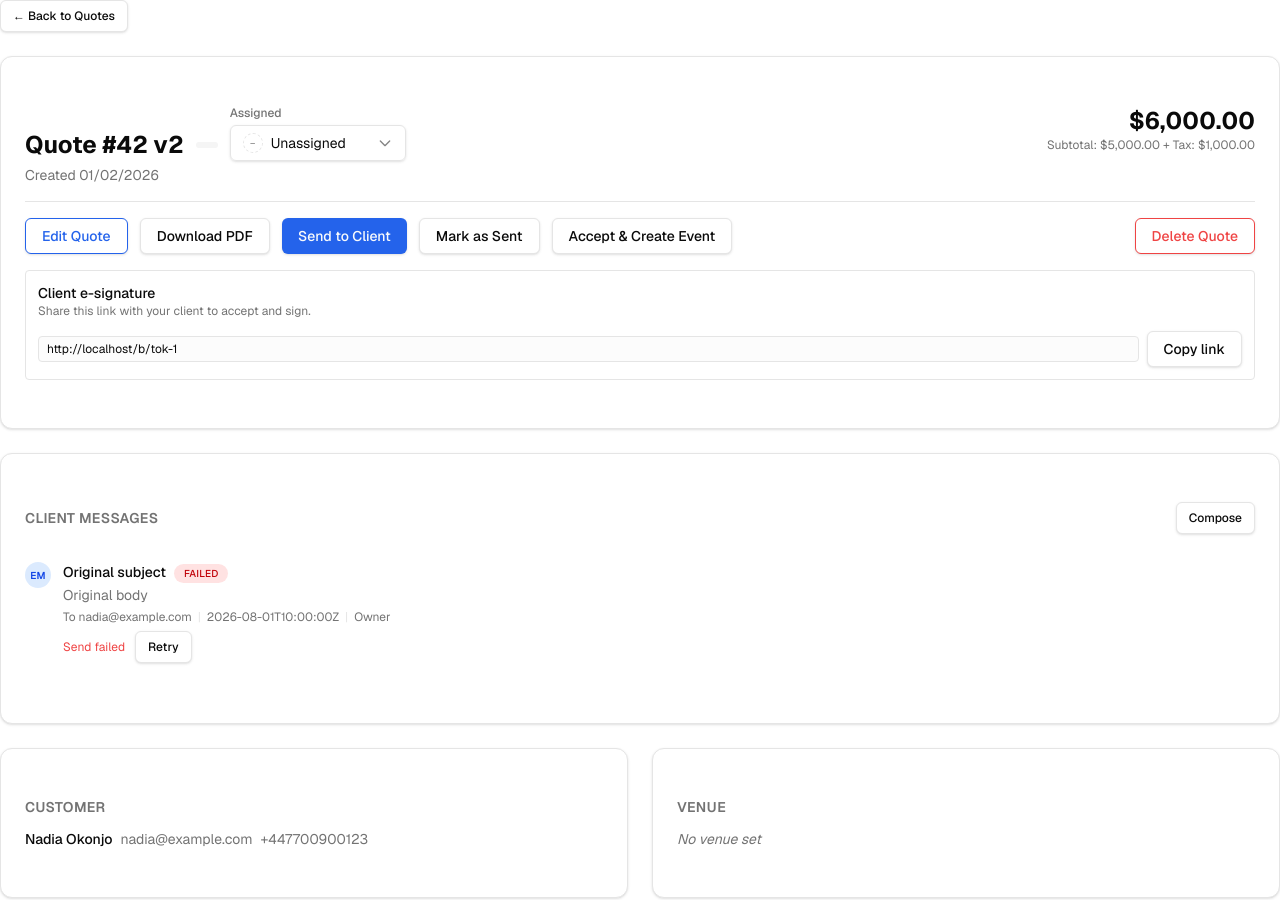
Scenario: Quote page — the message ledger › reopens a failed message with its own wording rather than redrafting
Click the button "Retry" at (163, 647), box x1=135 y1=631 x2=192 y2=663
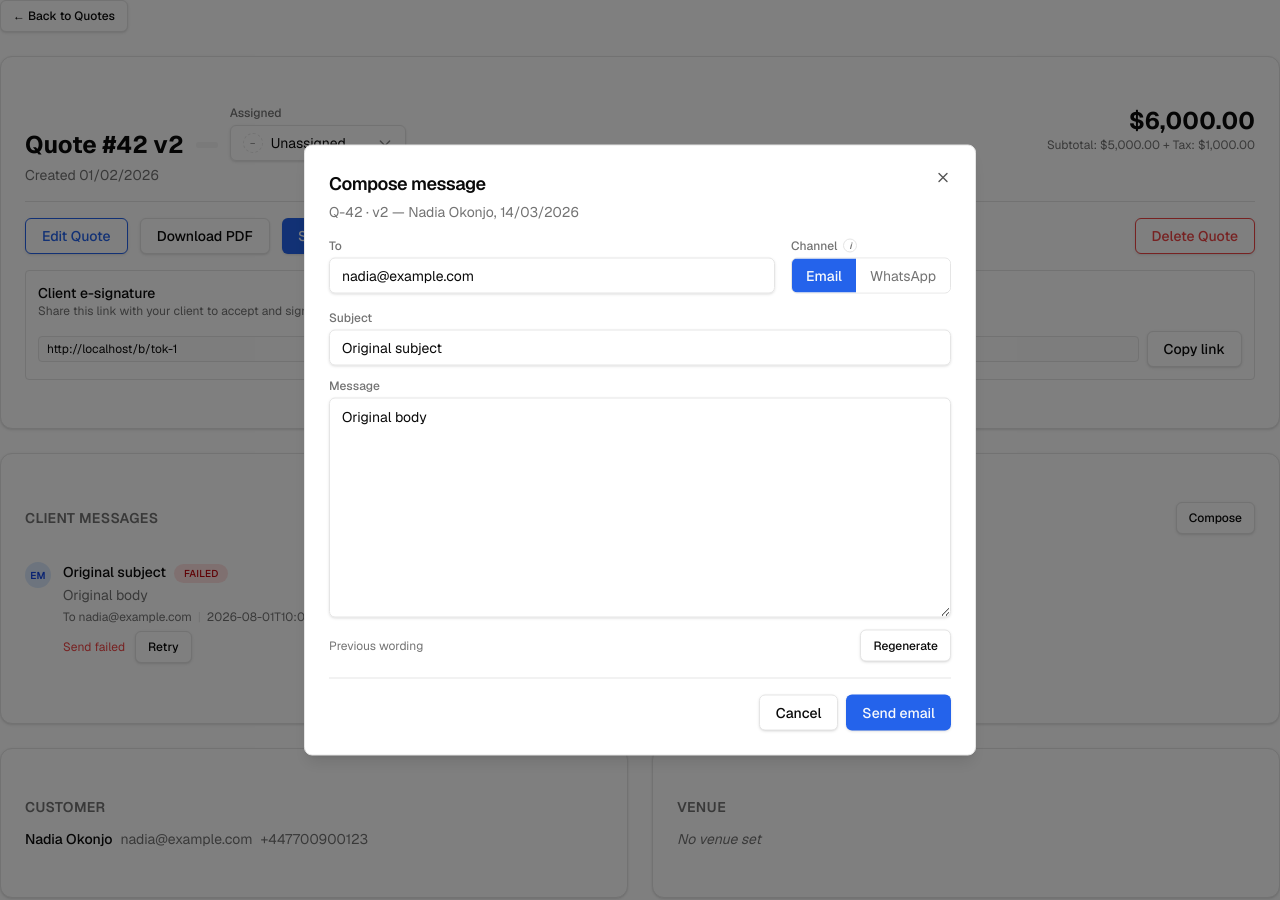
Check: the field labelled "Subject" holds "Original subject", box x1=329 y1=330 x2=951 y2=366
Check: the text box labelled "Message" holds "Original body", box x1=329 y1=398 x2=951 y2=618
Check: the text "Previous wording" is shown, box x1=329 y1=638 x2=423 y2=654
